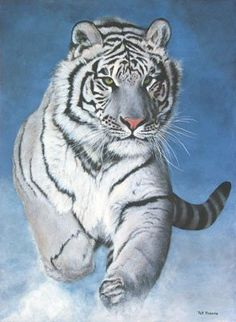Tigrew: (11, 6, 228, 311)
